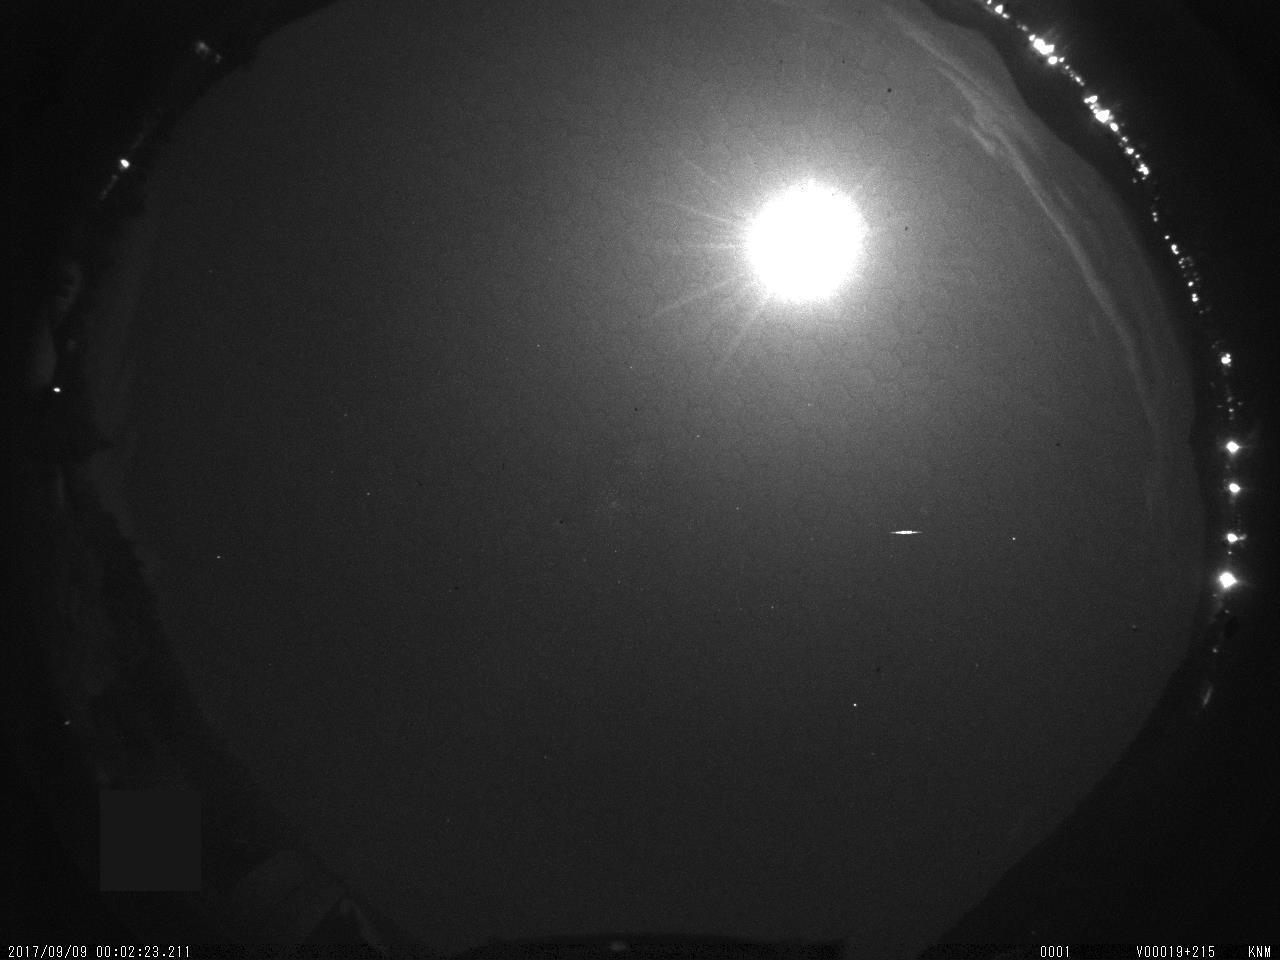Meteor: (885, 521, 927, 543)
